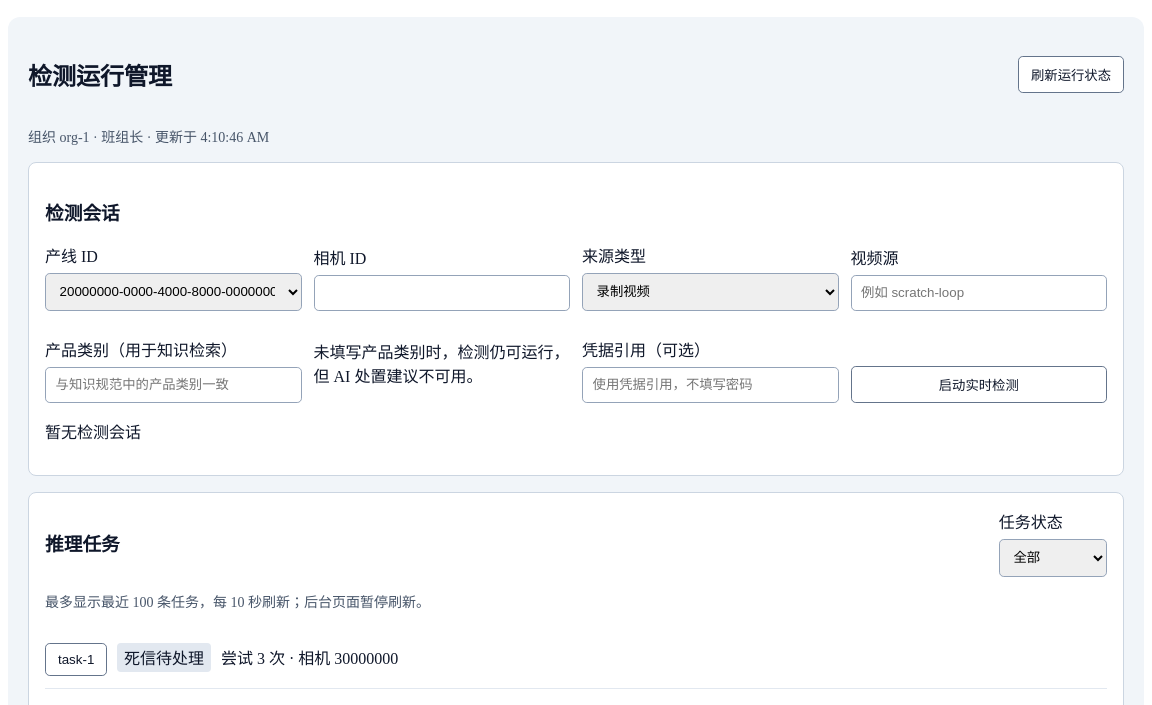
Test: reports the new replay identity only after a successful server response
Click the button with aria-label "查看任务 task-1": (76, 660) [45,643,107,676]
(page scrolled)
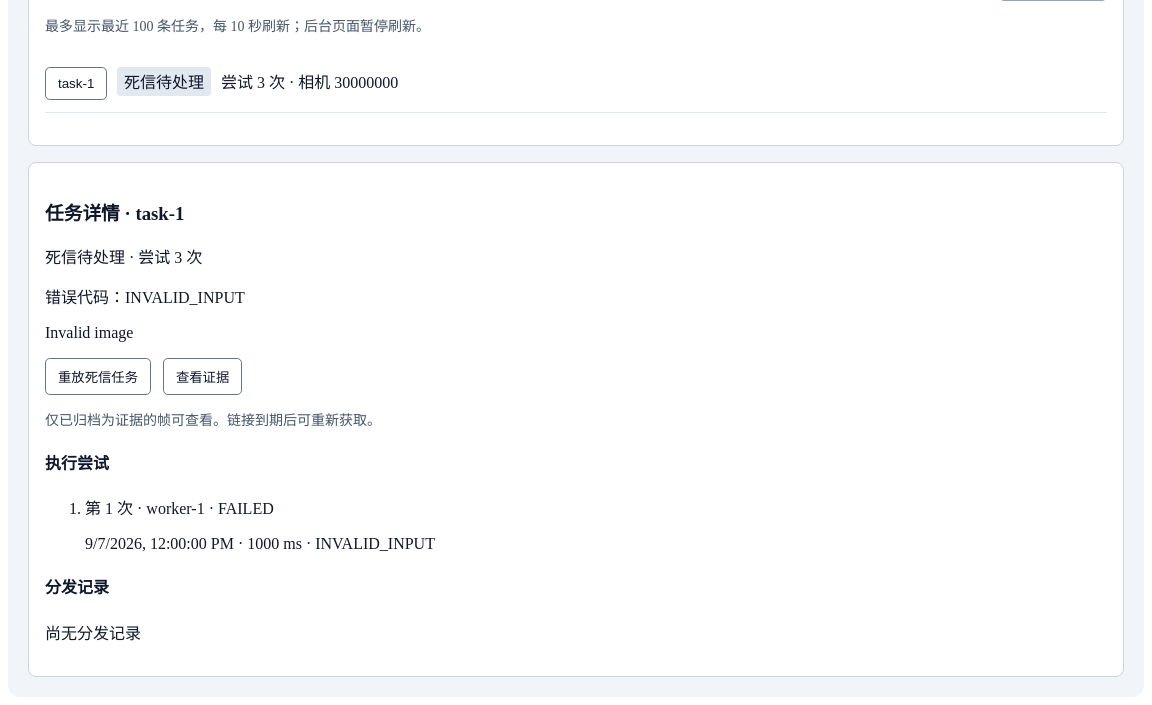
Click the button "重放死信任务": (98, 376) [45,358,151,395]
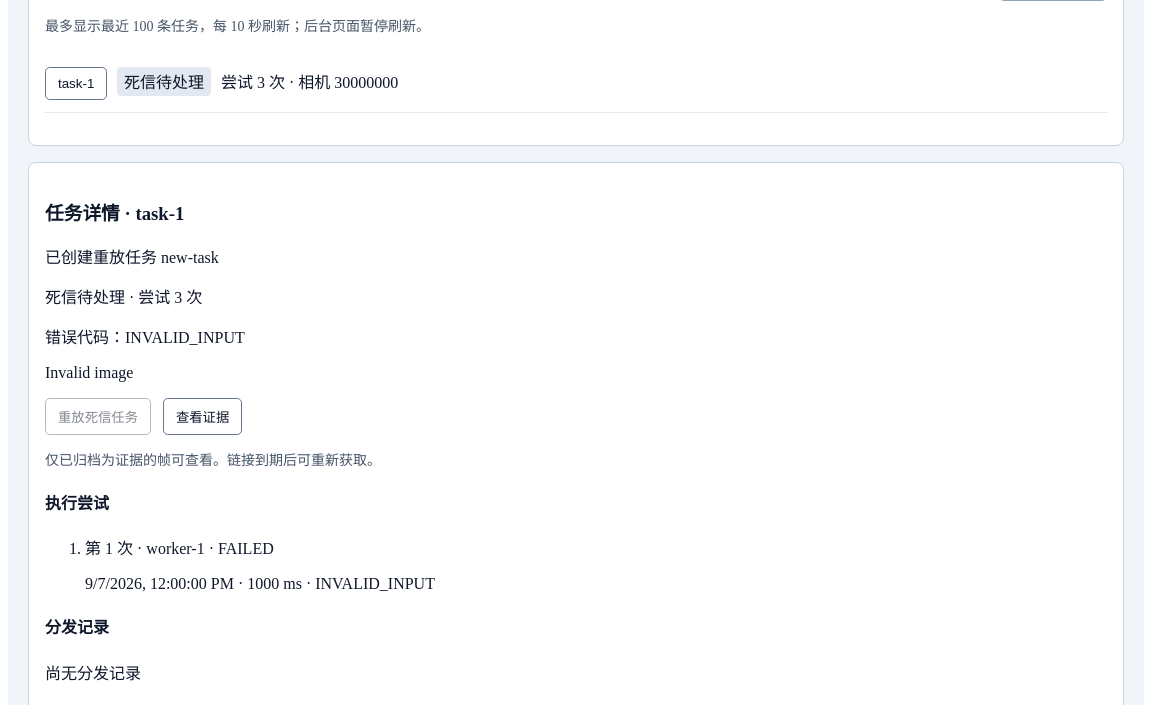
Result: the text "已创建重放任务 new-task" is shown at [45,249,219,266]
